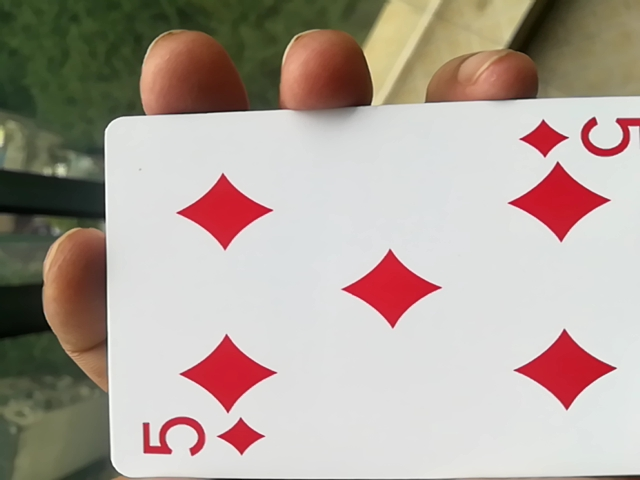fk 5: (90, 95, 637, 480)
